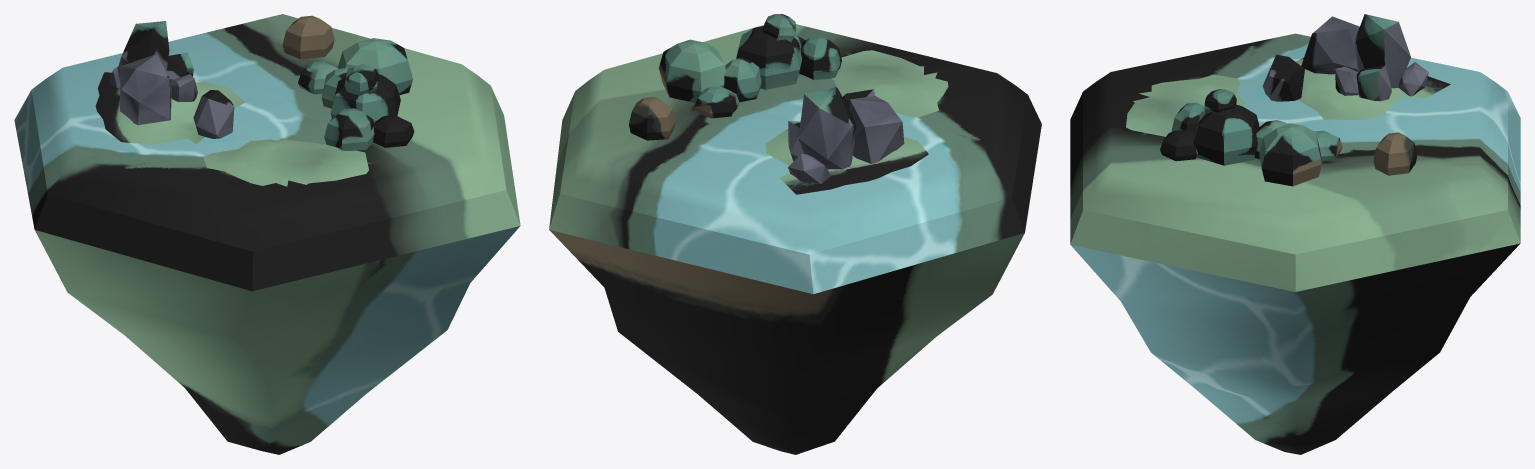
The model's file is islet_7.fbx.
The picture shows the model from 3 angles, left to right: view 1: azimuth 30°, elevation 25°; view 2: azimuth 150°, elevation 25°; view 3: azimuth 270°, elevation 25°; orthographic projection. The views are drawn at different scales.
Parts seen in each view (by area): view 1: polySurface540; view 2: polySurface540; view 3: polySurface540.
Part boxes in pixels (x1,y1,x2,y2): polySurface540: (14,14,520,454); polySurface540: (549,14,1041,454); polySurface540: (1070,14,1520,454).
Size of the model in its own units: 11.53 by 9.76 by 9.99.
